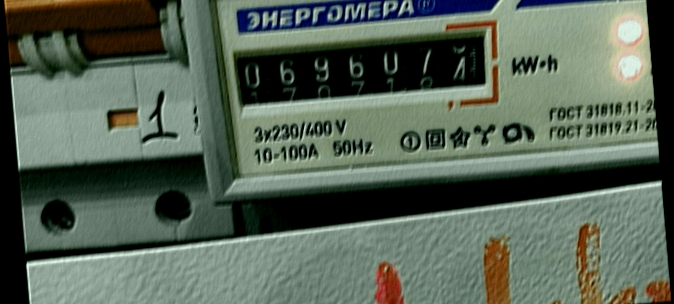0: (381, 46, 403, 77), (243, 60, 263, 90)
4: (451, 55, 469, 84)
6: (346, 51, 368, 81), (278, 56, 299, 86)
7: (417, 45, 437, 76)
9: (313, 55, 332, 84)
screen: (219, 13, 510, 126)
